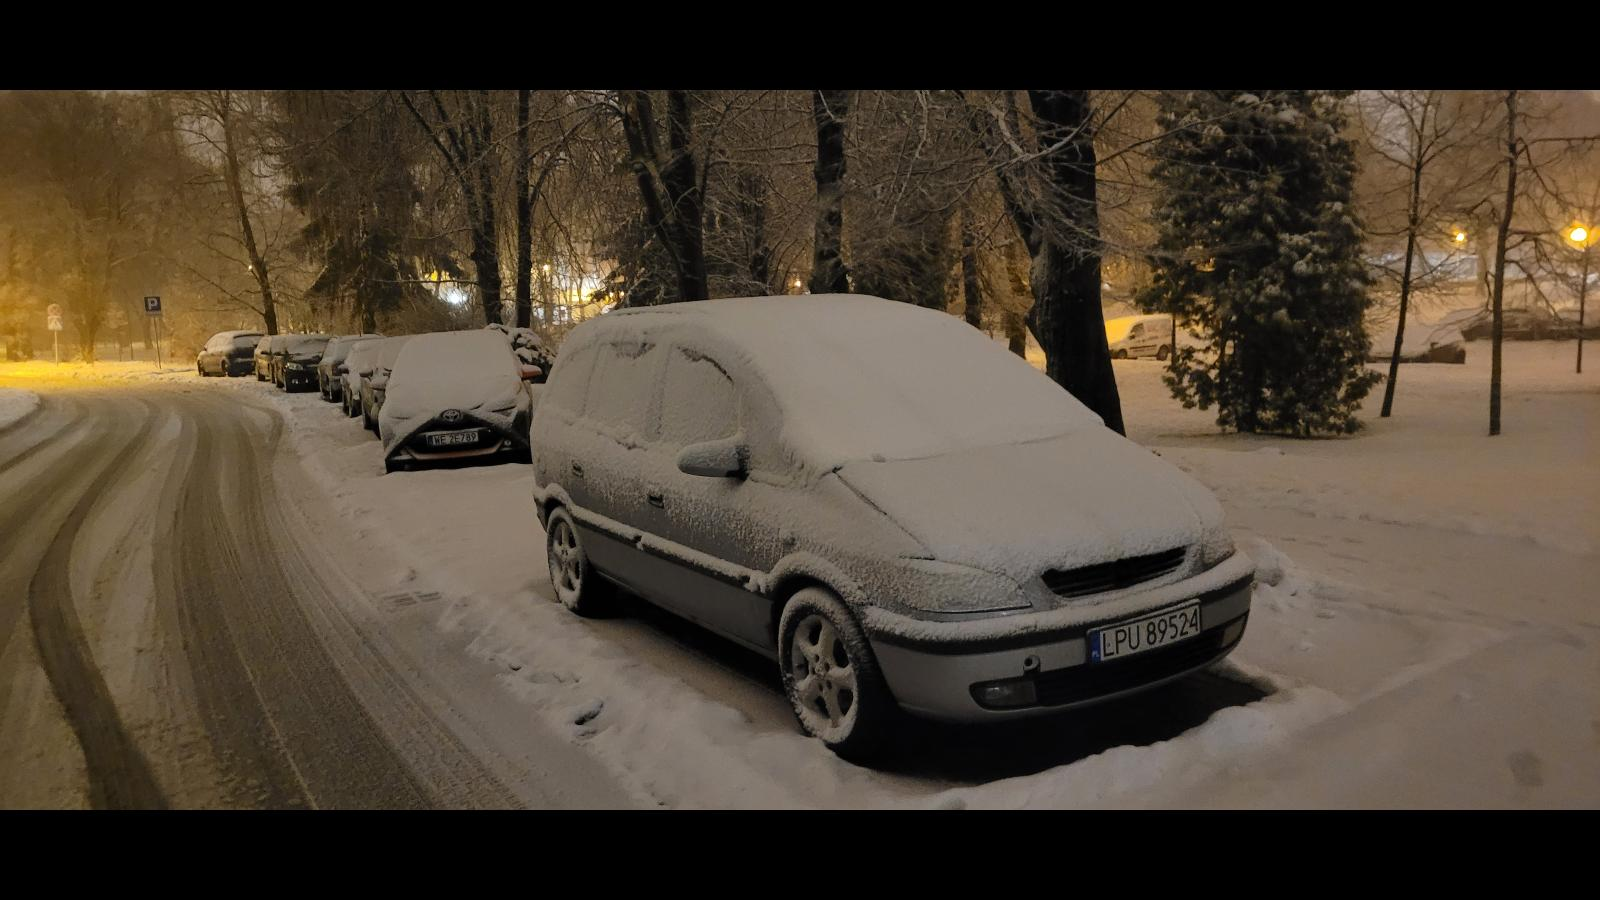plates: (1088, 603, 1201, 665), (428, 431, 480, 446)
